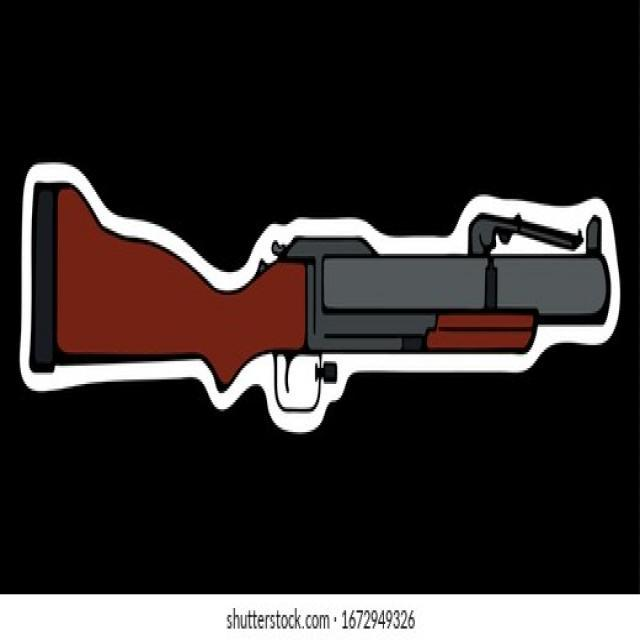shotgun: (18, 158, 623, 424)
